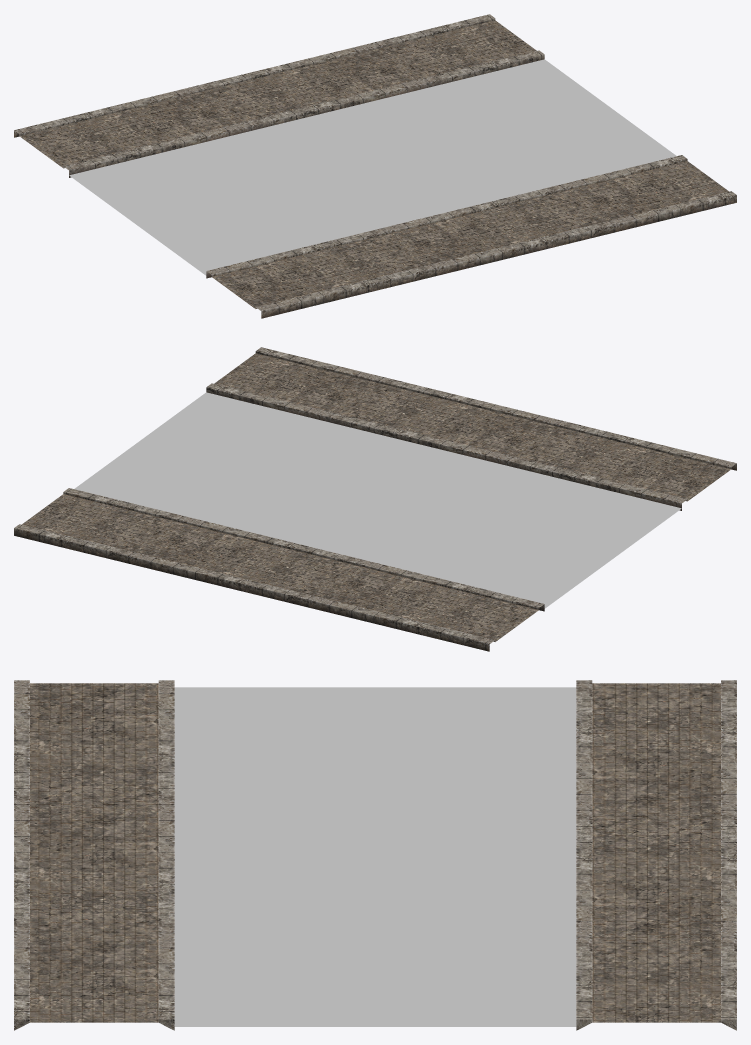
File: Road7_half.fbx
3 renders of one model, top to bottom at view 1: azimuth 30°, elevation 25°; view 2: azimuth 150°, elevation 25°; view 3: azimuth 270°, elevation 25°, orthographic. The views are drawn at different scales.
Parts seen in each view (by area): view 1: polySurface52; view 2: polySurface52; view 3: polySurface52.
Boxes of the visible parts, box(x1,y1,x2,y2) form: polySurface52: box(14, 14, 736, 318); polySurface52: box(14, 347, 736, 651); polySurface52: box(14, 680, 736, 1030).
Bounding box in the file's own units: 10 × 0.1527 × 9.
